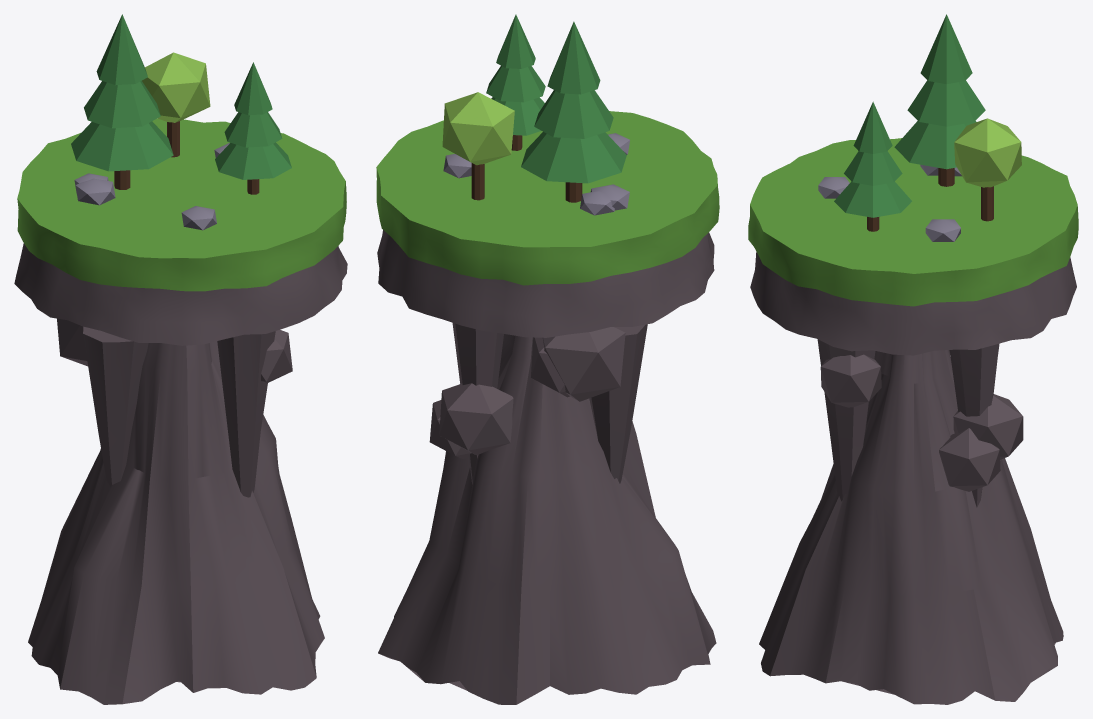
The model's file is island1.glb.
3 views of the same model, side by side, from view 1: azimuth 30°, elevation 25°; view 2: azimuth 150°, elevation 25°; view 3: azimuth 270°, elevation 25° (orthographic). The views are drawn at different scales.
Visible parts, largest first — view 1: Island1; view 2: Island1; view 3: Island1.
Part boxes in pixels (bbox=[...]): Island1: bbox=[14, 14, 347, 704]; Island1: bbox=[376, 14, 719, 704]; Island1: bbox=[748, 14, 1078, 704].
Bounding box in the file's own units: 2.01 × 4.16 × 2.03.
